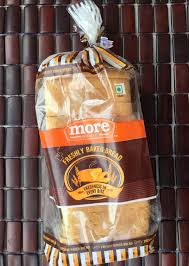bread: (34, 2, 167, 265)
